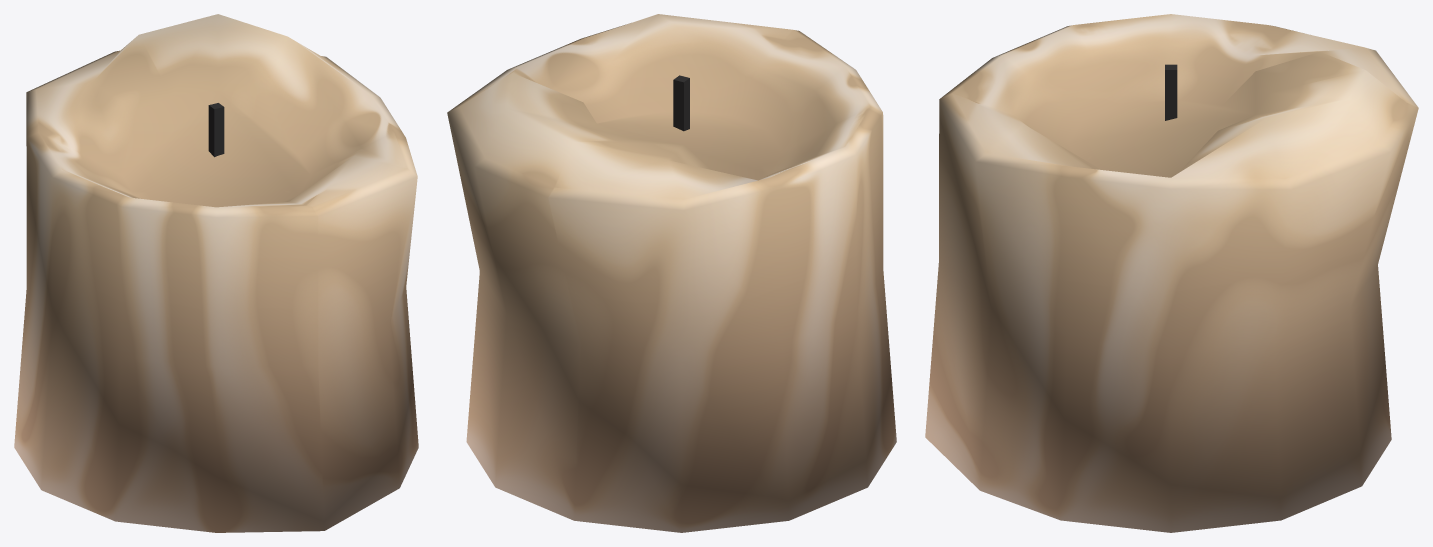
File: Candle 3.fbx
3 renders of one model, left to right at view 1: azimuth 30°, elevation 25°; view 2: azimuth 150°, elevation 25°; view 3: azimuth 270°, elevation 25°, orthographic. The views are drawn at different scales.
Visible parts, largest first — view 1: Candle 3; view 2: Candle 3; view 3: Candle 3.
Part boxes in pixels (x1,y1,x2,y2): Candle 3: [14, 14, 418, 532]; Candle 3: [447, 14, 896, 532]; Candle 3: [925, 14, 1418, 532].
Bounding box in the file's own units: 0.0953 × 0.0918 × 0.1065.
